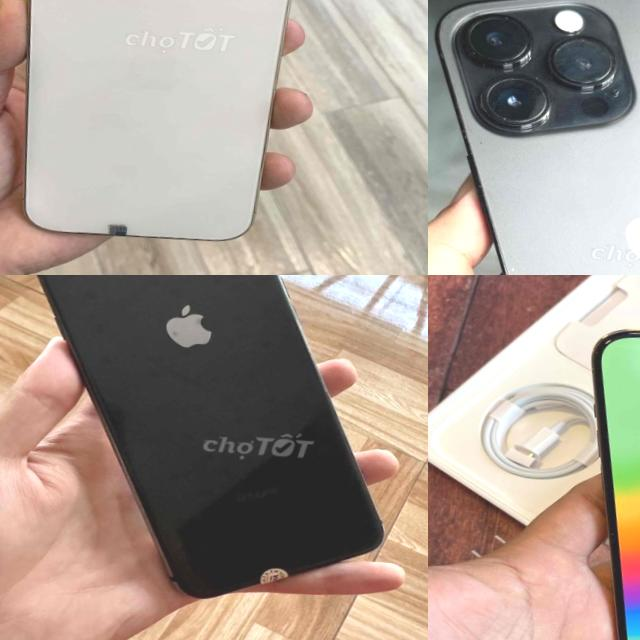scratch: (158, 307, 214, 348)
